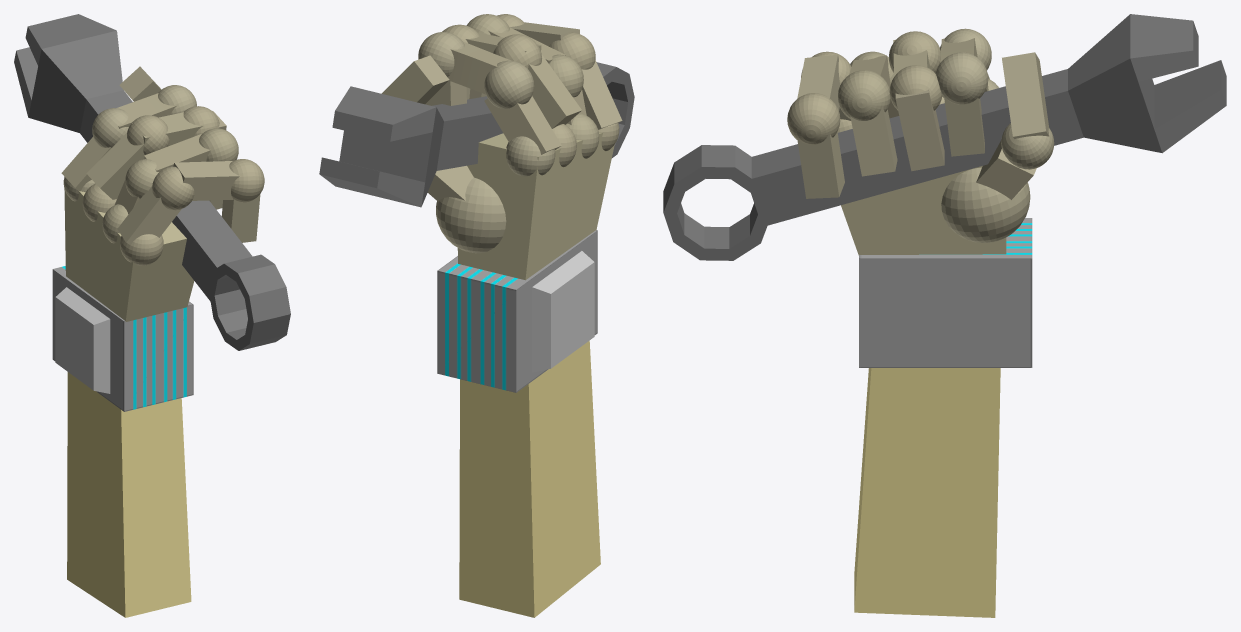
Rendered from wrench_animatie.fbx.
3 renders of one model, left to right at view 1: azimuth 30°, elevation 25°; view 2: azimuth 150°, elevation 25°; view 3: azimuth 270°, elevation 25°, orthographic. The views are drawn at different scales.
Parts seen in each view (by area): view 1: Cube.019, Cube.001, Cube.002; view 2: Cube.019, Cube.001, Cube.002; view 3: Cube.019, Cube.001, Cube.002.
Part boxes in pixels (x1,y1,x2,y2): Cube.019: (55, 66, 264, 617); Cube.001: (14, 14, 290, 350); Cube.002: (52, 266, 193, 411); Cube.019: (381, 14, 622, 617); Cube.001: (319, 62, 634, 207); Cube.002: (437, 230, 597, 392); Cube.019: (787, 28, 1054, 617); Cube.001: (663, 14, 1226, 260); Cube.002: (859, 218, 1032, 367).
Bounding box in the file's own units: 225 × 744 × 651.
